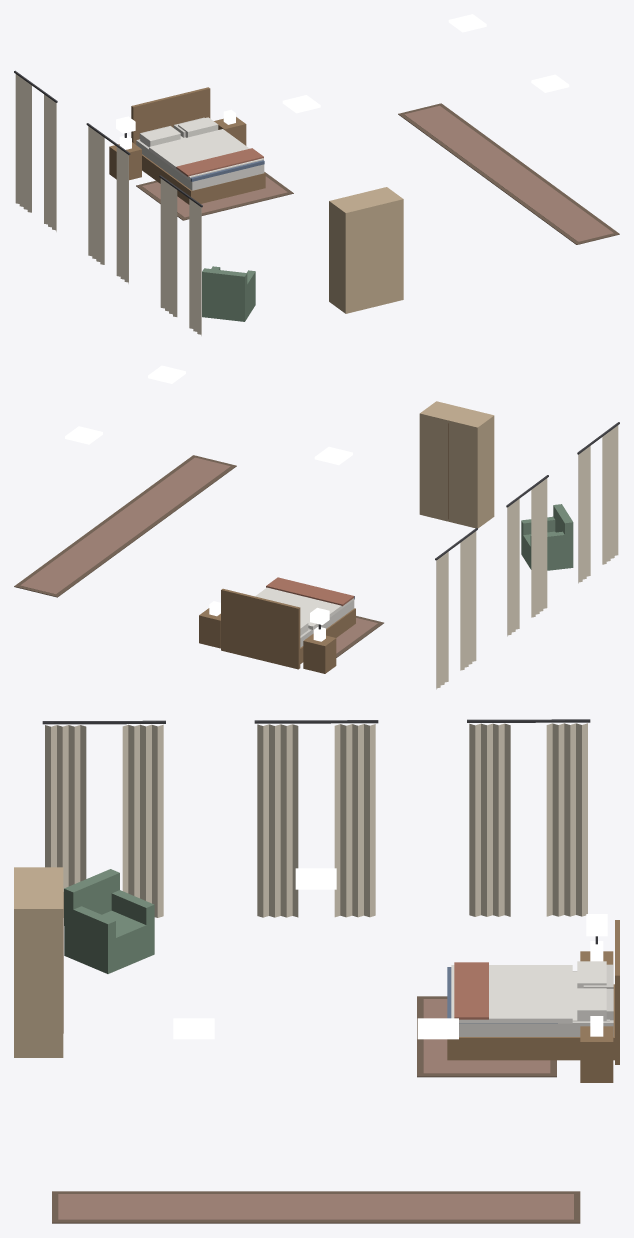
Rendered from fine-s1.glb.
The picture shows the model from 3 angles, top to bottom: view 1: azimuth 30°, elevation 25°; view 2: azimuth 150°, elevation 25°; view 3: azimuth 270°, elevation 25°; orthographic projection. The views are drawn at different scales.
Parts seen in each view (by area): view 1: soft-s1, dresser.000, bed-frame.000, lounge-chair.000, nightstand.000, nightstand.001, ceiling-lamp.002, ceiling-lamp.004, ceiling-lamp.003; view 2: soft-s1, dresser.000, bed-frame.000, lounge-chair.000, nightstand.000, nightstand.001, ceiling-lamp.004, ceiling-lamp.002, ceiling-lamp.003; view 3: soft-s1, dresser.000, lounge-chair.000, bed-frame.000, nightstand.001, ceiling-lamp.003, ceiling-lamp.004, ceiling-lamp.002.
Boxes of the visible parts, x1,y1,x2,y2 form: soft-s1: (14, 70, 619, 335); dresser.000: (329, 187, 403, 313); bed-frame.000: (131, 87, 265, 204); lounge-chair.000: (202, 266, 255, 321); nightstand.000: (109, 135, 141, 180); nightstand.001: (214, 109, 246, 145); ceiling-lamp.002: (448, 14, 486, 32); ceiling-lamp.004: (282, 95, 320, 113); ceiling-lamp.003: (531, 74, 569, 92); soft-s1: (14, 422, 619, 689); dresser.000: (419, 401, 494, 528); bed-frame.000: (221, 588, 355, 669); lounge-chair.000: (521, 504, 573, 570); nightstand.000: (303, 626, 336, 673); nightstand.001: (199, 601, 220, 648); ceiling-lamp.004: (314, 446, 352, 465); ceiling-lamp.002: (65, 426, 102, 444); ceiling-lamp.003: (148, 365, 185, 383); soft-s1: (42, 719, 609, 1223); dresser.000: (14, 867, 63, 1057); lounge-chair.000: (64, 869, 154, 973); bed-frame.000: (447, 920, 619, 1064); nightstand.001: (580, 1016, 613, 1082); ceiling-lamp.003: (173, 1018, 214, 1039); ceiling-lamp.004: (295, 868, 336, 889); ceiling-lamp.002: (417, 1018, 458, 1039).
Bounding box in the file's own units: 8.81 × 2.66 × 7.36.
